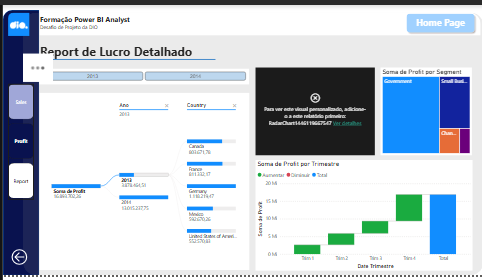

Layout of this report page (visuals, bound fields, positions):
{"tool":"powerbi","page":{"name":"Profit","canvas":[1280,720],"ordinal":1},"visuals":[{"type":"shape","box":[0,13.8,96.4,706.2],"z":0},{"type":"actionButton","title":"Home Page","box":[1064.7,14.6,199.6,69.2],"z":0,"group":"g2"},{"type":"shape","box":[53.1,19.8,1225.3,699.3],"z":0},{"type":"shape","box":[94.4,126.9,473,37.1],"z":0,"group":"g1"},{"type":"textbox","box":[1076.9,29.4,173,42.6],"z":1000,"group":"g2"},{"type":"textbox","box":[95.8,96.7,470.2,52.2],"z":1000,"group":"g1"},{"type":"shape","box":[12.4,20.6,57.7,63.2],"z":2000},{"type":"image","box":[13.7,33,57.7,39.9],"z":3000},{"type":"shape","title":"Fundo do Título","box":[95,20,1175,61.7],"z":4000},{"type":"textbox","title":"Título do report","box":[94.4,21.1,378.1,63.2],"z":5000},{"type":"shape","box":[95,233.3,560,473.3],"z":6000},{"type":"decompositionTreeVisual","fields":{"Analyze":["Sum(financials.Profit)"],"ExplainBy":["financials.Date.Variation.Hierarquia de datas.Ano","financials.Country"]},"box":[99.8,242.2,536.3,456.5],"z":7000},{"type":"waterfallChart","fields":{"Category":["financials.Date.Variation.Hierarquia de datas.Trimestre"],"Y":["Sum(financials.Profit)"]},"box":[670.9,412.5,577.4,294.2],"z":8000},{"type":"ChicletSlicer1448559807354","fields":{"Category":["financials.Date.Variation.Hierarquia de datas.Ano"]},"box":[96.7,170,558.3,41.7],"z":9000},{"type":"RadarChart1446119667547","fields":{"Category":["financials.Product"],"Y":["Sum(financials.Profit)"]},"box":[670.9,165,317.6,233.7],"z":10000},{"type":"treemap","fields":{"Group":["financials.Segment"],"Values":["Sum(financials.Profit)"]},"box":[1005,165,243.4,233.7],"z":11000},{"type":"group","id":"g1","title":"Sales report","box":[94.4,96.7,473,67.4],"z":12000},{"type":"actionButton","box":[15.9,622.4,54,96.9],"z":13000},{"type":"group","id":"g2","title":"Botão home","box":[1064.7,14.6,199.6,69.2],"z":14000},{"type":"pageNavigator","box":[13.4,211.1,69.9,306.2],"z":14003}]}

Visuals, with their boxes on the page's 1280x720 design canvas (x1, y1, x2, y2). These are canvas units, not pixel positions in the 482x280 screenshot, which may show the page scaled, cropped or inside an application window:
shape: bbox=[0, 14, 96, 720]
"Home Page" actionButton: bbox=[1065, 15, 1264, 84]
shape: bbox=[53, 20, 1278, 719]
shape: bbox=[94, 127, 567, 164]
textbox: bbox=[1077, 29, 1250, 72]
textbox: bbox=[96, 97, 566, 149]
shape: bbox=[12, 21, 70, 84]
image: bbox=[14, 33, 71, 73]
"Fundo do Título" shape: bbox=[95, 20, 1270, 82]
"Título do report" textbox: bbox=[94, 21, 472, 84]
shape: bbox=[95, 233, 655, 707]
decompositionTreeVisual - Sum(financials.Profit) x financials.Date.Variation.Hierarquia de datas.Ano: bbox=[100, 242, 636, 699]
waterfallChart - financials.Date.Variation.Hierarquia de datas.Trimestre x Sum(financials.Profit): bbox=[671, 412, 1248, 707]
ChicletSlicer1448559807354 - financials.Date.Variation.Hierarquia de datas.Ano: bbox=[97, 170, 655, 212]
RadarChart1446119667547 - financials.Product x Sum(financials.Profit): bbox=[671, 165, 988, 399]
treemap - financials.Segment x Sum(financials.Profit): bbox=[1005, 165, 1248, 399]
"Sales report" group: bbox=[94, 97, 567, 164]
actionButton: bbox=[16, 622, 70, 719]
"Botão home" group: bbox=[1065, 15, 1264, 84]
pageNavigator: bbox=[13, 211, 83, 517]
